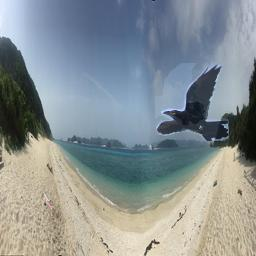Crow: (155, 63, 229, 141)
